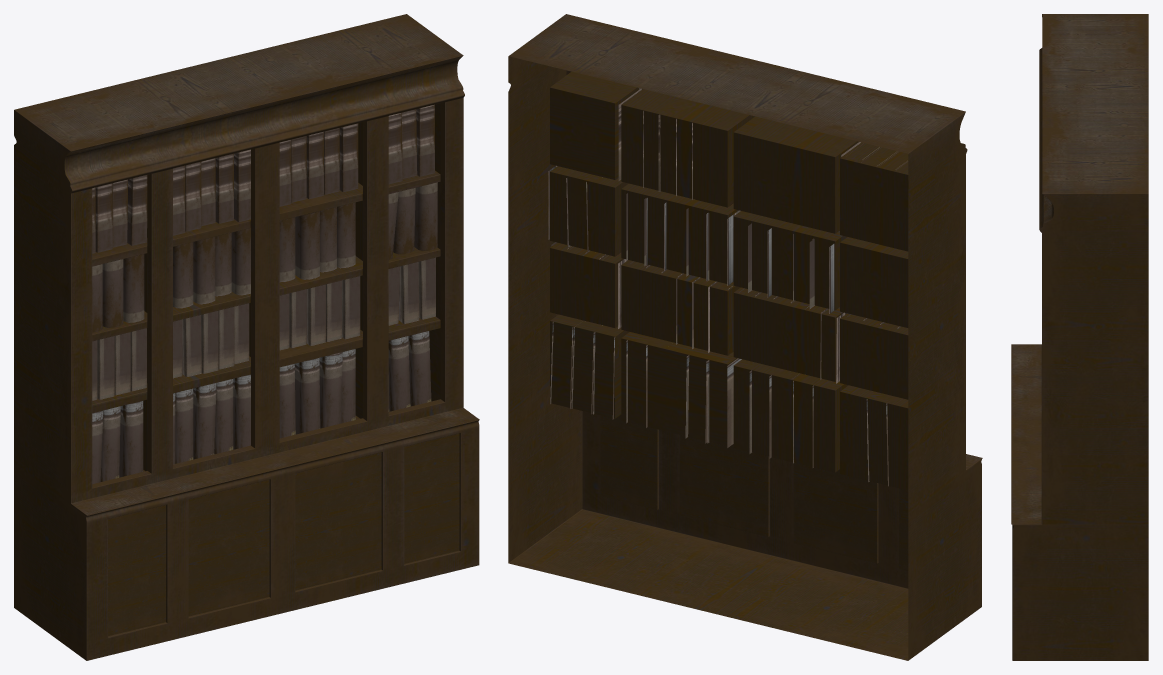
The model's file is bookcase.glb.
3 renders of one model, left to right at view 1: azimuth 30°, elevation 25°; view 2: azimuth 150°, elevation 25°; view 3: azimuth 270°, elevation 25°, orthographic. The views are drawn at different scales.
Parts seen in each view (by area): view 1: polySurface101; view 2: polySurface101; view 3: polySurface101.
Part boxes in pixels (x1,y1,x2,y2): polySurface101: [14, 14, 479, 660]; polySurface101: [508, 14, 982, 660]; polySurface101: [1011, 14, 1148, 660].
Size of the model in its own units: 1.95 by 2.36 by 0.6296.
Materials: 2 (2 with a texture image).
